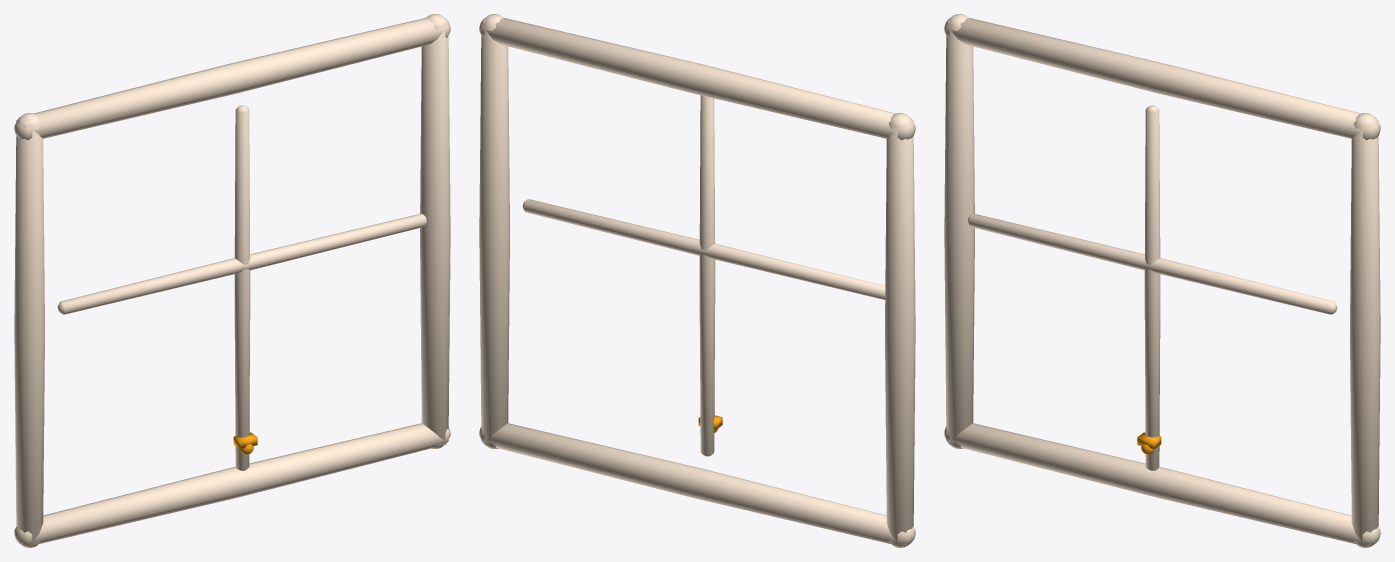
The model's file is fenster_rahmen_2.glb.
The picture shows the model from 3 angles, left to right: view 1: azimuth 30°, elevation 25°; view 2: azimuth 150°, elevation 25°; view 3: azimuth 330°, elevation 25°; orthographic projection.
Parts seen in each view (by area): view 1: FensterRahmen2; view 2: FensterRahmen2; view 3: FensterRahmen2.
Boxes of the visible parts, x1,y1,x2,y2 form: FensterRahmen2: (14,14,450,547); FensterRahmen2: (479,14,915,547); FensterRahmen2: (944,14,1380,547).
Size of the model in its own units: 1.13 by 1.08 by 0.1135.
1 material, 1 textured.
